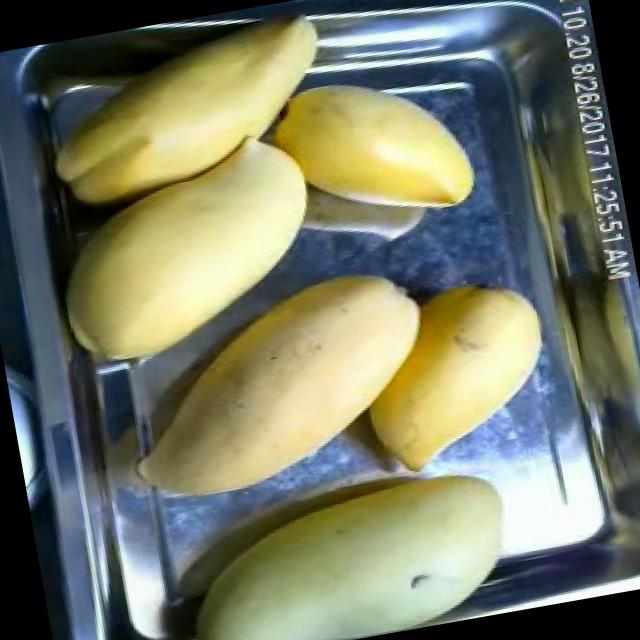fruit: (92, 240, 464, 520), (35, 127, 347, 380), (21, 3, 354, 233), (326, 260, 574, 493), (256, 50, 487, 247)
